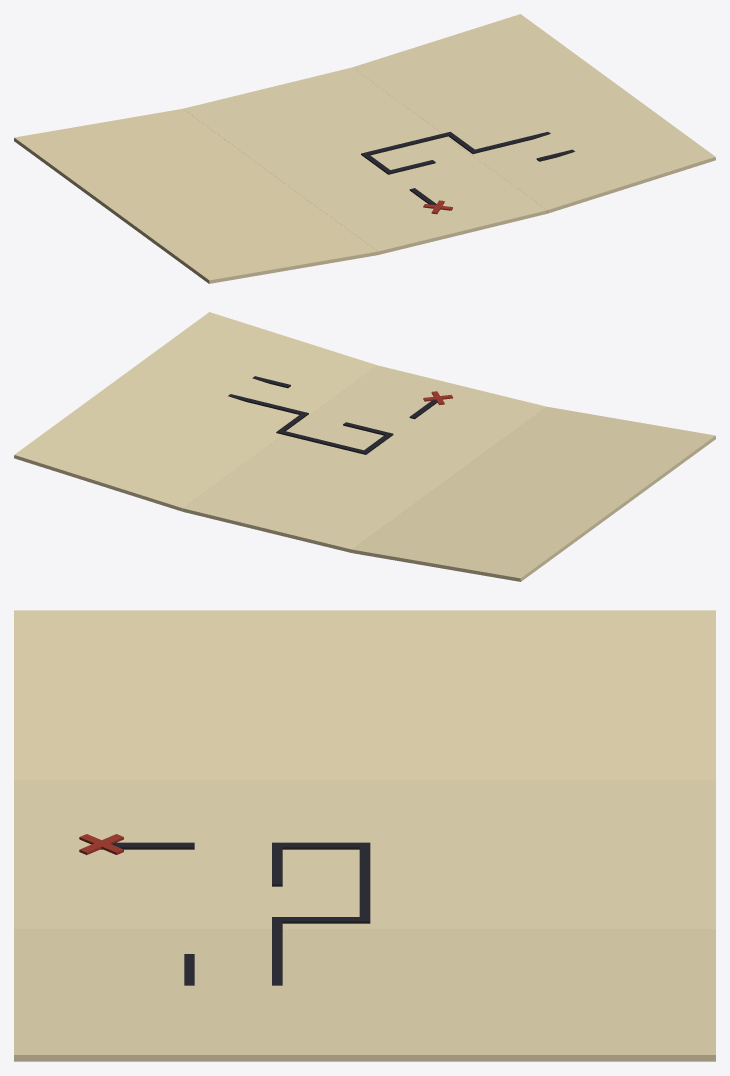
Rendered from Prop_Lab_SurveyMap_A_LOD1.glb.
3 renders of one model, top to bottom at view 1: azimuth 30°, elevation 25°; view 2: azimuth 150°, elevation 25°; view 3: azimuth 270°, elevation 25°, orthographic. The views are drawn at different scales.
Parts seen in each view (by area): view 1: Prop_Lab_SurveyMap_A; view 2: Prop_Lab_SurveyMap_A; view 3: Prop_Lab_SurveyMap_A.
Part boxes in pixels (box(x1,y1,x2,y2)): Prop_Lab_SurveyMap_A: box(14, 14, 715, 283); Prop_Lab_SurveyMap_A: box(14, 312, 715, 581); Prop_Lab_SurveyMap_A: box(14, 610, 715, 1061).
Bounding box in the file's own units: 0.5998 × 0.0179 × 0.4.
